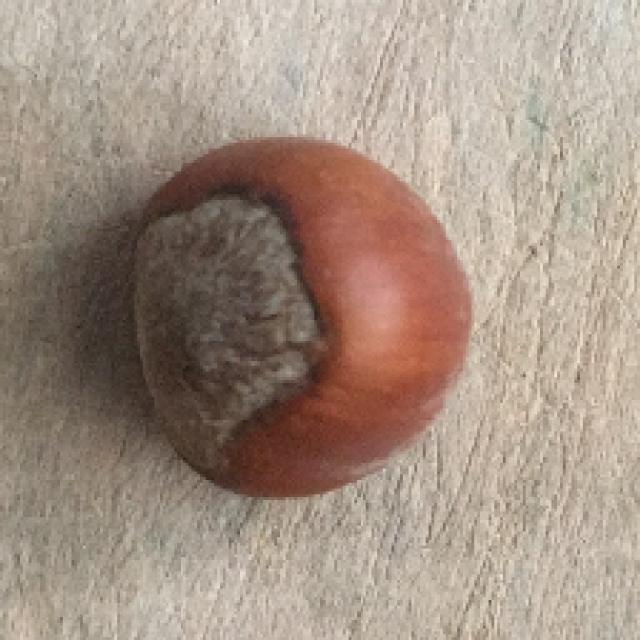qualityHazelnut: (134, 137, 473, 503)
